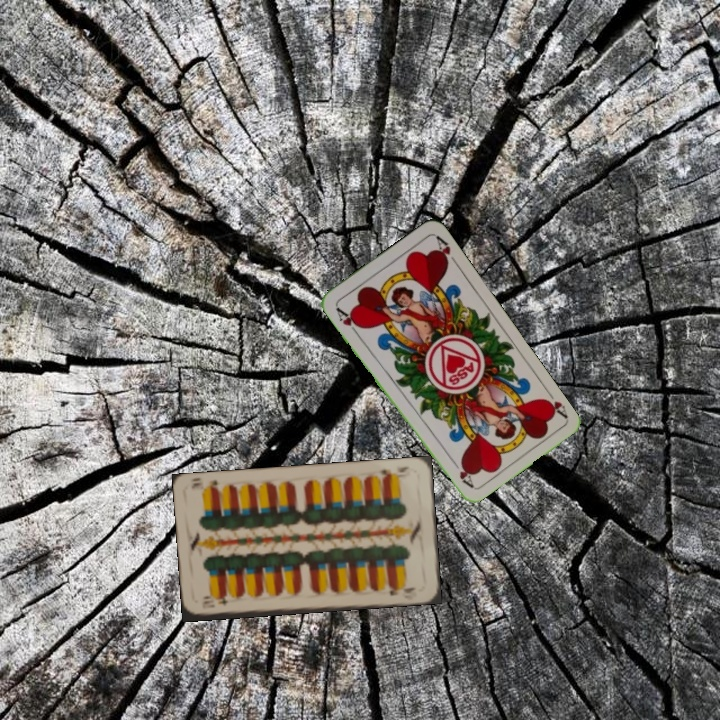E10: (376, 462, 412, 482), (198, 595, 231, 611)
HA: (538, 385, 570, 421), (331, 303, 364, 337)
